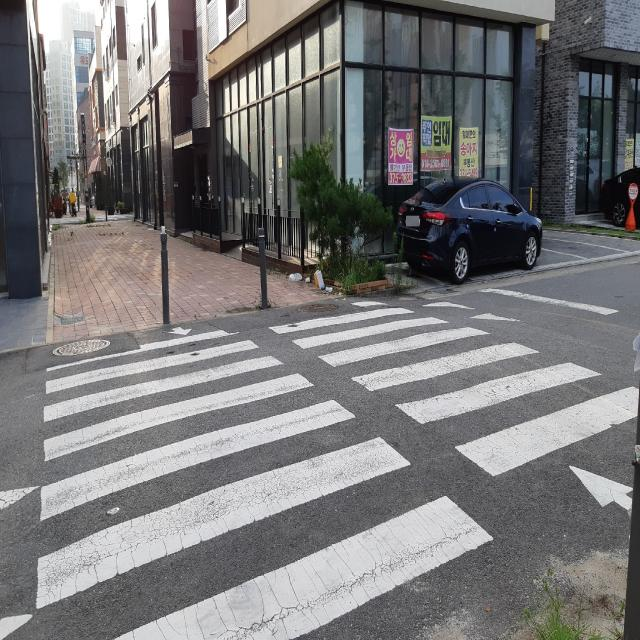횡단보도: (36, 297, 640, 640)
